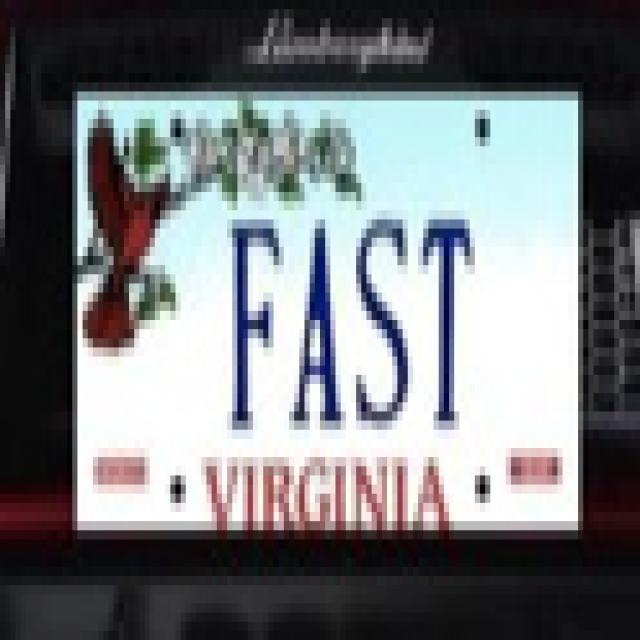A: (292, 207, 346, 443)
F: (220, 206, 286, 440)
S: (350, 202, 420, 440)
T: (417, 194, 476, 440)
